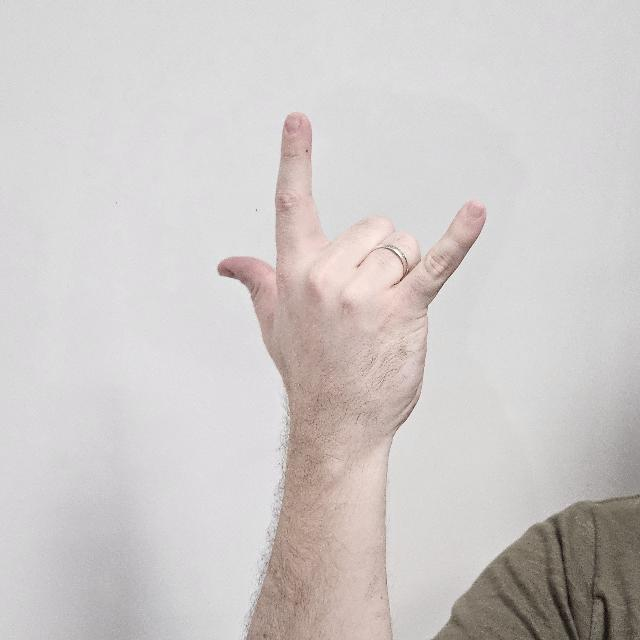Cima: (218, 110, 486, 468)
